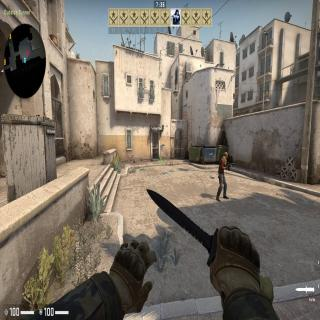T-Body: (216, 152, 229, 202)
T-Head: (224, 152, 228, 159)
